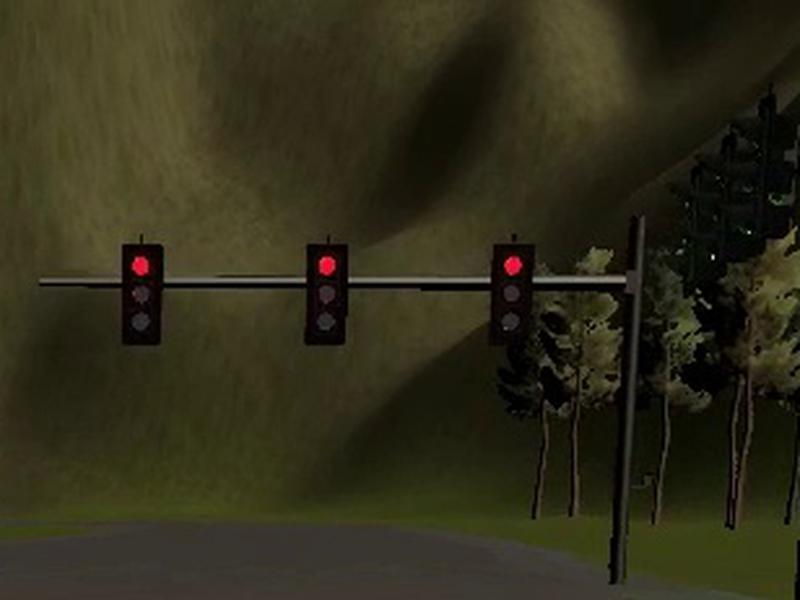Red: (488, 244, 534, 345), (305, 243, 348, 345), (121, 244, 160, 344)
